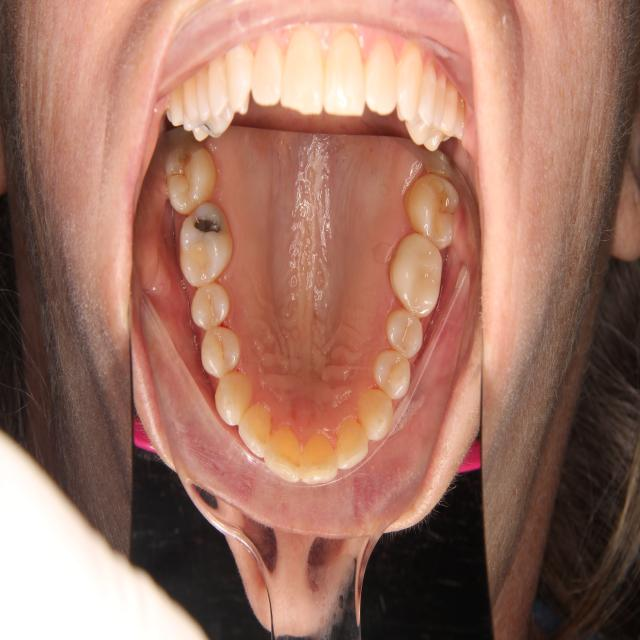tooth: (384, 218, 451, 326), (173, 200, 243, 294), (400, 162, 466, 258), (160, 140, 224, 222), (259, 406, 304, 492), (294, 424, 344, 494), (193, 322, 246, 386), (184, 273, 235, 338), (381, 301, 432, 363), (353, 386, 401, 451), (370, 342, 416, 409), (331, 407, 372, 480), (215, 362, 254, 434), (236, 393, 275, 463)
